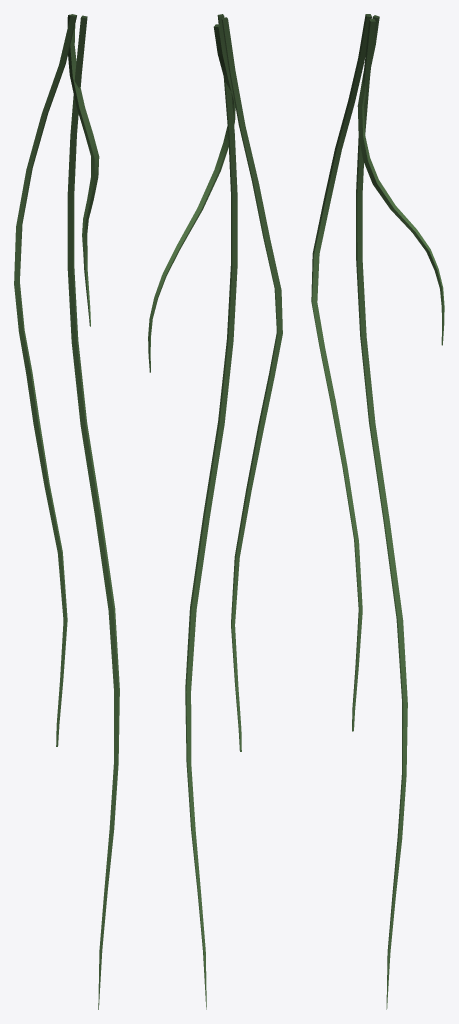
Rendered from Jungle_Vines_Sml_B.fbx.
3 renders of one model, left to right at view 1: azimuth 30°, elevation 25°; view 2: azimuth 150°, elevation 25°; view 3: azimuth 330°, elevation 25°, orthographic.
Visible parts, largest first — view 1: Jungle_Vines_Sml_B; view 2: Jungle_Vines_Sml_B; view 3: Jungle_Vines_Sml_B.
Part boxes in pixels (x1=…): Jungle_Vines_Sml_B: x1=14, y1=14, x2=119, y2=1009; Jungle_Vines_Sml_B: x1=148, y1=14, x2=282, y2=1009; Jungle_Vines_Sml_B: x1=311, y1=14, x2=444, y2=1009.
Bounding box in the file's own units: 0.8746 × 8 × 0.6466.
Materials: 1 (1 with a texture image).
